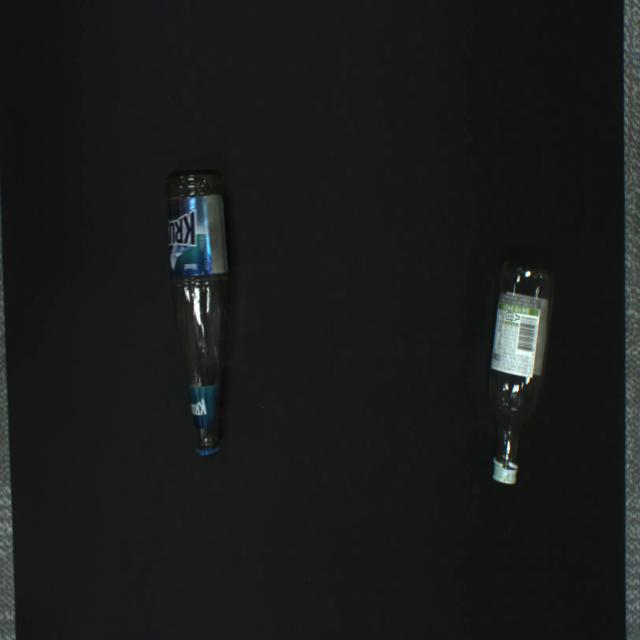beer-bottle: (166, 174, 228, 456)
soju-bottle: (489, 263, 553, 485)
